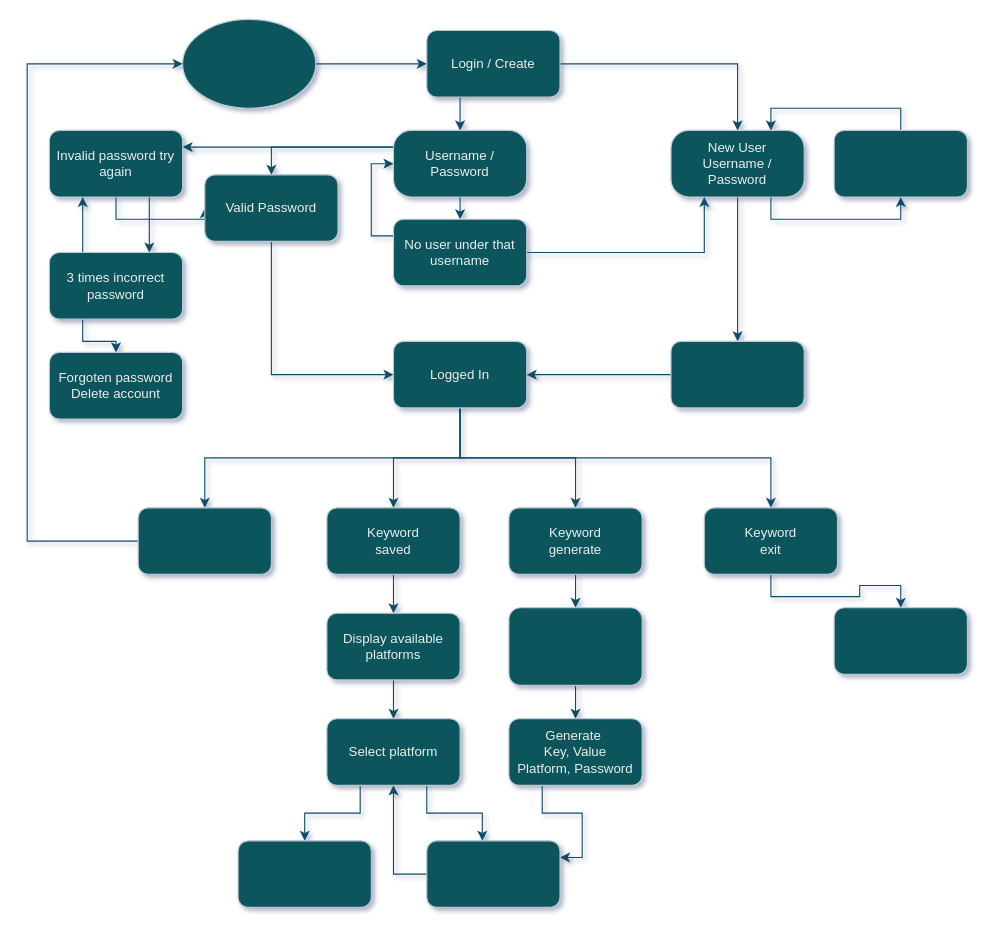
Some shapes in this 993 by 934 pixel diagram are drawn without their labels. Each missing label, with the centre of its shape:
"3 Prompts Length Strength Platform" goes at pixel 575 646.
"Display generated password" goes at pixel 304 873.
"EXIT" goes at pixel 900 640.
"Keyword stop" goes at pixel 204 540.
"New user created" goes at pixel 737 374.
"Password database" goes at pixel 493 873.
"Username taken" goes at pixel 900 163.
"Welcome Message" goes at pixel 248 63.
